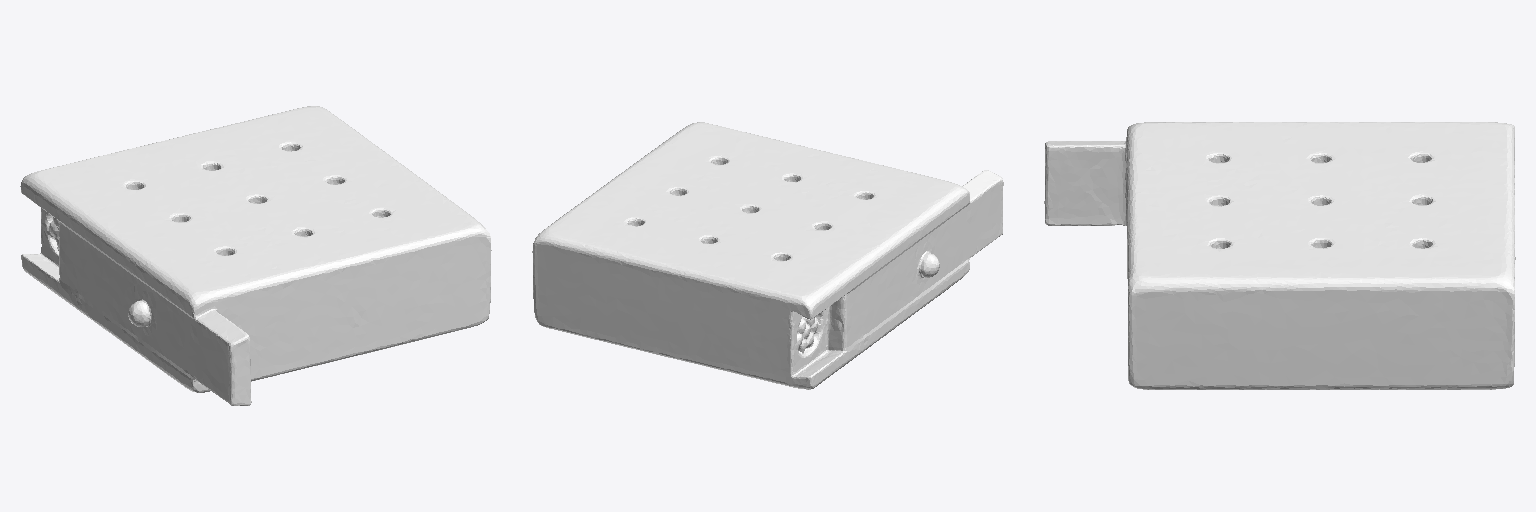
URDF robot description (nine_hole_peg_test):
<robot name="nine_hole_peg_test">
    <link name="base_link">
        <visual>
            <origin xyz="-0.0 -0.0 0.0" rpy="0.0 0.0 0.0" />
            <geometry>
                <mesh filename="nine_hole_peg_test/textured.obj" scale="1 1 1" />
            </geometry>
            <material name="texture">
                <color rgba="1.0 1.0 1.0 1.0" />
            </material>
        </visual>
        <collision>
            <origin xyz="-0.0 -0.0 0.0" rpy="0.0 0.0 0.0" />
            <geometry>
                <mesh filename="nine_hole_peg_test/textured_coacd_0.stl" scale="1 1 1" />
            </geometry>
        </collision>
        <collision>
            <origin xyz="-0.0 -0.0 0.0" rpy="0.0 0.0 0.0" />
            <geometry>
                <mesh filename="nine_hole_peg_test/textured_coacd_1.stl" scale="1 1 1" />
            </geometry>
        </collision>
        <collision>
            <origin xyz="-0.0 -0.0 0.0" rpy="0.0 0.0 0.0" />
            <geometry>
                <mesh filename="nine_hole_peg_test/textured_coacd_2.stl" scale="1 1 1" />
            </geometry>
        </collision>
        <collision>
            <origin xyz="-0.0 -0.0 0.0" rpy="0.0 0.0 0.0" />
            <geometry>
                <mesh filename="nine_hole_peg_test/textured_coacd_3.stl" scale="1 1 1" />
            </geometry>
        </collision>
        <collision>
            <origin xyz="-0.0 -0.0 0.0" rpy="0.0 0.0 0.0" />
            <geometry>
                <mesh filename="nine_hole_peg_test/textured_coacd_4.stl" scale="1 1 1" />
            </geometry>
        </collision>
        <inertial>
            <mass value="1.435" />
            <inertia ixx="1e-3" ixy="0.0" ixz="0.0" iyy="1e-3" iyz="0.0" izz="1e-3" />
        </inertial>
    </link>
</robot>

--- Facts derived from the render (not from the file) ---
3 views of the same robot in one strip: view 1: azimuth 30°, elevation 25°; view 2: azimuth 150°, elevation 25°; view 3: azimuth 270°, elevation 25° (orthographic).
Robot: nine_hole_peg_test — 1 links, 0 joints (none); root link base_link; default pose: every joint at zero.
Visible links, largest first — view 1: base_link; view 2: base_link; view 3: base_link.
Link boxes in pixels (box(x1,y1,x2,y2)): base_link: box(20, 106, 491, 405); base_link: box(532, 122, 1003, 389); base_link: box(1044, 122, 1515, 389).
Size in the robot's own frame: 0.1315 by 0.1525 by 0.0405 metres.
Meshes: 1 distinct files referenced, 1 mesh visuals loaded (1 OBJ).